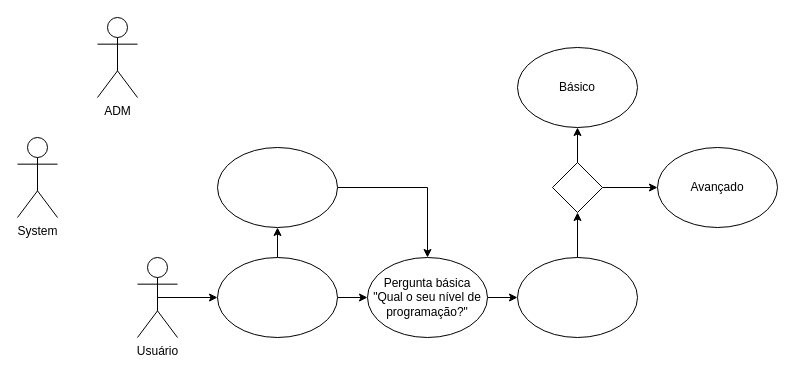
Some shapes in this 795 by 376 pixel diagram are drawn without their labels. Each missing label, with the centre of its shape:
"Autenticação de conta" belongs at point (277, 187).
"Nível de programação" belongs at point (577, 297).
"Registro/Login" belongs at point (277, 297).
